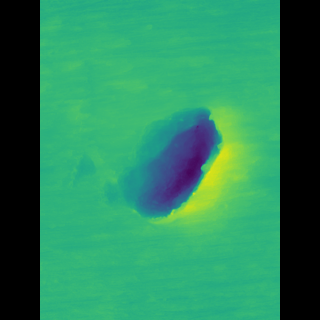Loch: (115, 100, 216, 236)
